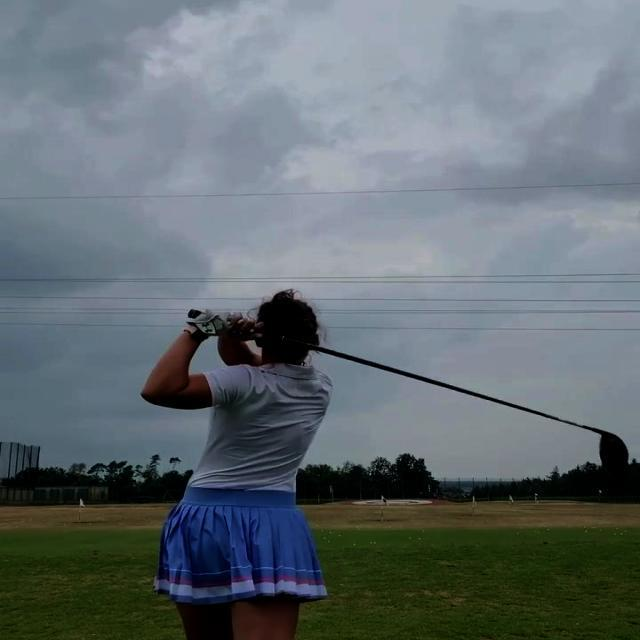golf club-handle: (187, 308, 629, 475)
golf club-head: (598, 432, 629, 476)
